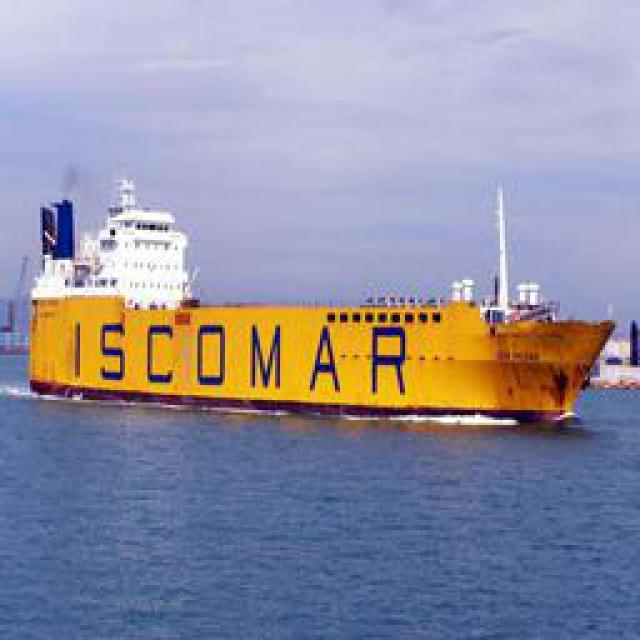Ship: (25, 163, 617, 421)
